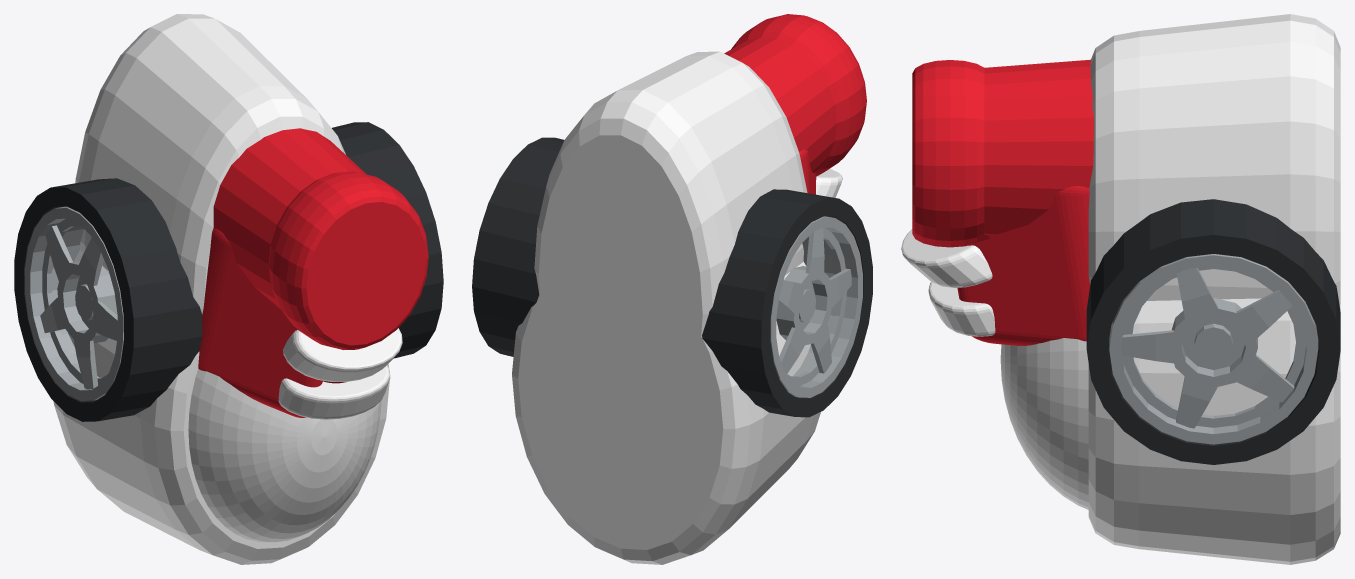
The model's file is tinker.obj.
3 renders of one model, left to right at view 1: azimuth 30°, elevation 25°; view 2: azimuth 150°, elevation 25°; view 3: azimuth 270°, elevation 25°, orthographic. The views are drawn at different scales.
Parts seen in each view (by area): view 1: group_0_16448250, group_0_15277357, group_0_2829873, group_0_10988977; view 2: group_0_16448250, group_0_2829873, group_0_15277357, group_0_10988977; view 3: group_0_16448250, group_0_15277357, group_0_10988977, group_0_2829873.
Part boxes in pixels (x1,y1,x2,y2): group_0_16448250: (53, 14, 402, 564); group_0_15277357: (198, 128, 428, 417); group_0_2829873: (14, 122, 443, 421); group_0_10988977: (25, 206, 123, 400); group_0_16448250: (512, 51, 842, 564); group_0_2829873: (472, 137, 872, 417); group_0_15277357: (724, 14, 866, 194); group_0_10988977: (770, 216, 862, 397); group_0_16448250: (901, 14, 1340, 564); group_0_15277357: (912, 59, 1093, 345); group_0_10988977: (1109, 254, 1318, 444); group_0_2829873: (1086, 199, 1340, 464).
Size of the model in its own units: 96.58 by 146 by 109.
